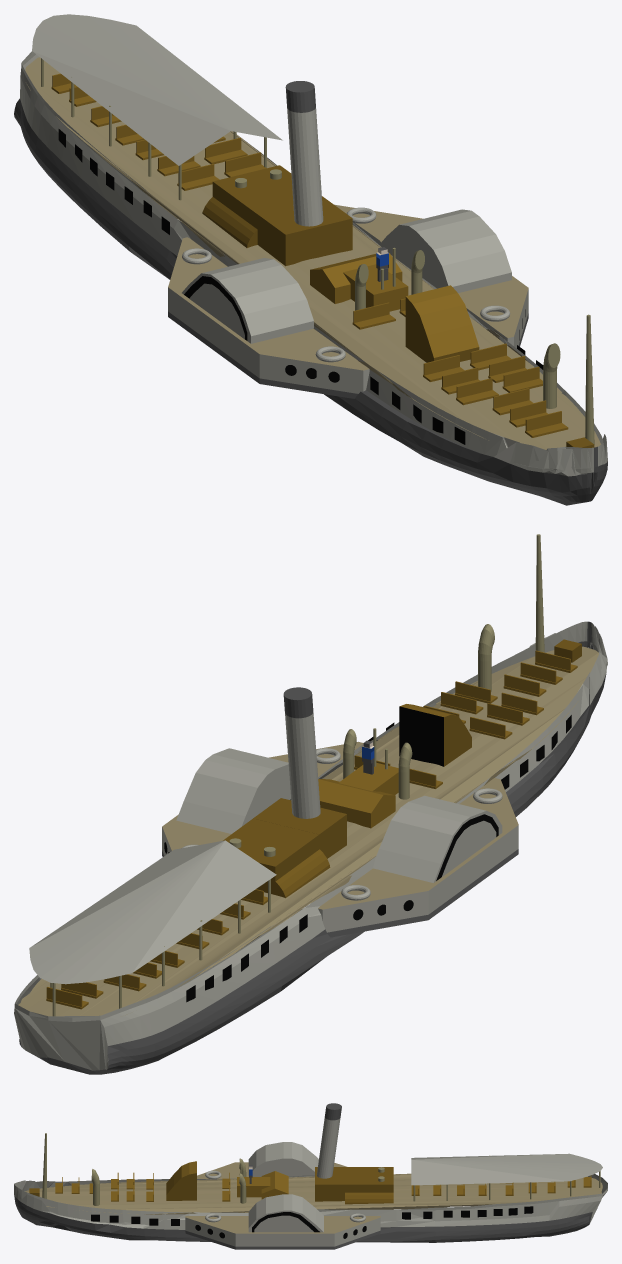
Rendered from iron-paddle-river-steamer-lcc.dae.
The picture shows the model from 3 angles, top to bottom: view 1: azimuth 30°, elevation 25°; view 2: azimuth 150°, elevation 25°; view 3: azimuth 270°, elevation 25°; orthographic projection. The views are drawn at different scales.
Parts seen in each view (by area): view 1: _167, ID16_005, Plane_005, Cube_020, Cube_019, Cube_032, Cube_629, ID118_001, Cube_021, Cube_639, Cube_640, Cube_641 (+5 smaller); view 2: _167, ID16_005, Plane_005, Cube_020, Cube_019, Cube_032, ID118_001, Cube_629, Cube_640, Cube_641, Cube_021, Cube_639 (+5 smaller); view 3: _167, ID16_005, Plane_005, Cube_639, Cube_032, Cube_019, ID118_001, Cube_640, Cube_629, Cube_021, Cube_644, Cylinder (+6 smaller).
Boxes of the visible parts, x1,y1,x2,y2 form: _167: (14,51,607,505); ID16_005: (25,57,600,449); Plane_005: (32,14,282,165); Cube_020: (168,237,369,398); Cube_019: (381,209,511,292); Cube_032: (182,258,313,343); Cube_629: (405,285,479,362); ID118_001: (285,81,323,226); Cube_021: (257,197,352,266); Cube_639: (334,204,528,348); Cube_640: (212,165,323,228); Cube_641: (310,253,402,303); _167: (14,621,607,1074); ID16_005: (18,646,598,1016); Plane_005: (29,840,276,984); Cube_020: (318,778,518,937); Cube_019: (176,748,290,833); Cube_032: (373,795,502,882); ID118_001: (283,687,320,818); Cube_629: (399,704,471,766); Cube_640: (223,818,319,883); Cube_641: (318,779,395,828); Cube_021: (253,798,346,858); Cube_639: (162,741,363,856); _167: (14,1174,607,1242); ID16_005: (25,1173,602,1214); Plane_005: (411,1153,602,1185); Cube_639: (185,1216,380,1249); Cube_032: (248,1142,318,1177); Cube_019: (248,1194,323,1232); ID118_001: (316,1103,341,1178); Cube_640: (345,1167,393,1192); Cube_629: (166,1161,196,1200); Cube_021: (315,1167,345,1201); Cube_644: (254,1215,313,1232); Cylinder: (345,1192,393,1209).
Size of the model in its own units: 5.17 by 18.22 by 3.95.
